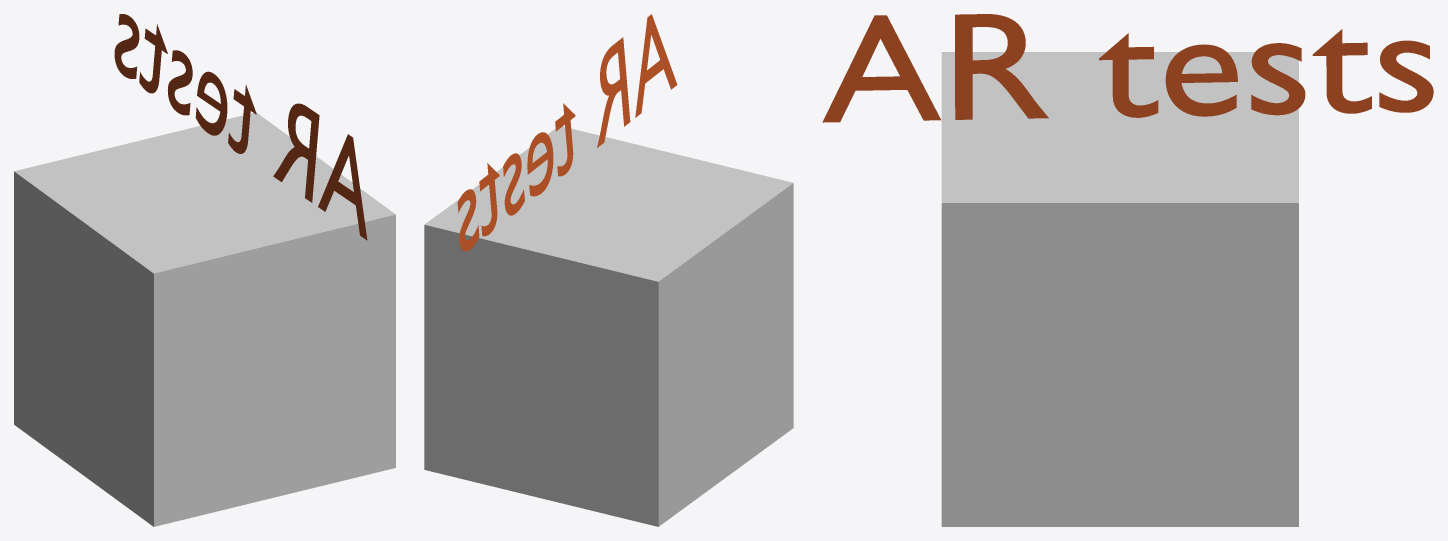
3 views of the same model, side by side, from view 1: azimuth 30°, elevation 25°; view 2: azimuth 150°, elevation 25°; view 3: azimuth 270°, elevation 25° (orthographic). The views are drawn at different scales.
Visible parts, largest first — view 1: Cube, AR tests; view 2: Cube, AR tests; view 3: Cube, AR tests.
Part boxes in pixels (left/top/right/bottom): Cube: left=14, top=112, right=395, bottom=526; AR tests: left=114, top=14, right=367, bottom=240; Cube: left=424, top=126, right=793, bottom=526; AR tests: left=457, top=14, right=677, bottom=251; Cube: left=941, top=52, right=1298, bottom=526; AR tests: left=822, top=14, right=1433, bottom=122.
Size of the model in its own units: 2 by 2.89 by 3.42.
